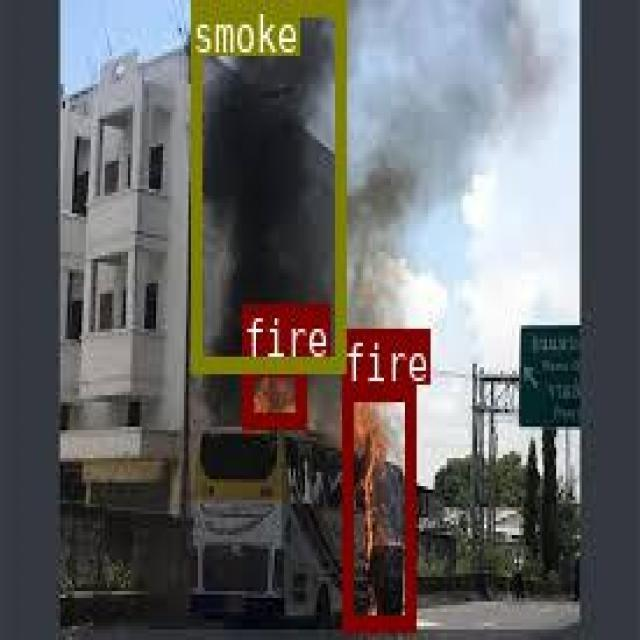fire: (342, 383, 414, 627), (242, 358, 305, 424)
smoke: (190, 0, 343, 367)
